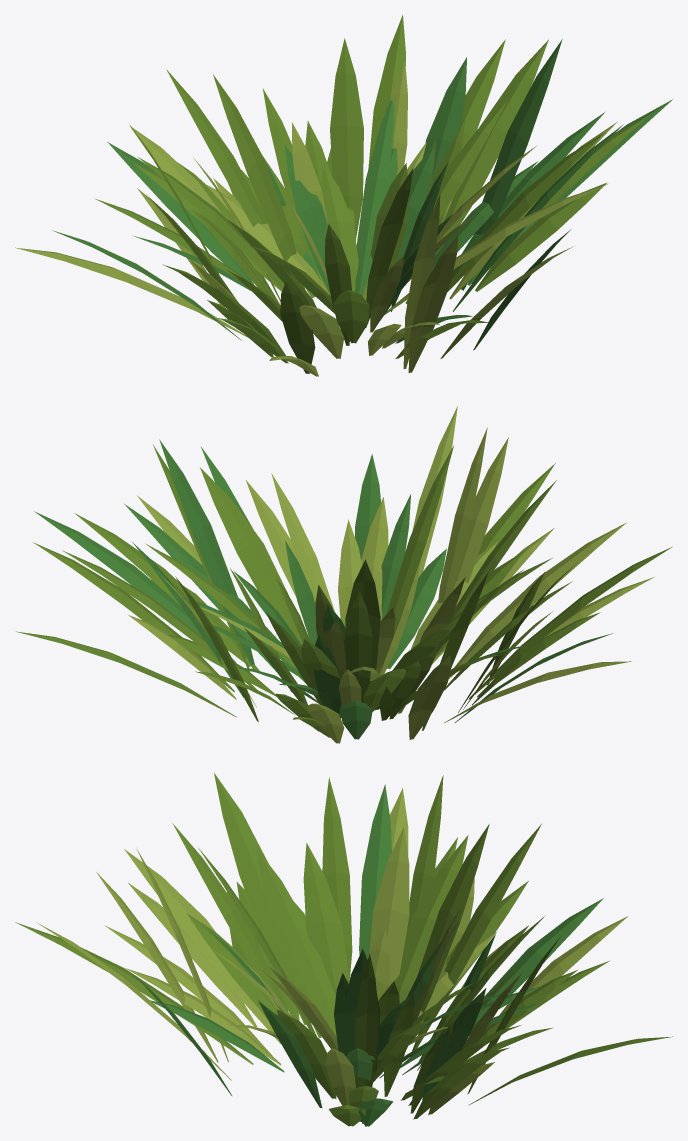
Rendered from jungle_grass_broad.glb.
3 views of the same model, one above another, from view 1: azimuth 30°, elevation 25°; view 2: azimuth 150°, elevation 25°; view 3: azimuth 270°, elevation 25° (orthographic). The views are drawn at different scales.
Parts seen in each view (by area): view 1: jungle_grass_broad; view 2: jungle_grass_broad; view 3: jungle_grass_broad.
Boxes of the visible parts, x1,y1,x2,y2 form: jungle_grass_broad: [15, 14, 672, 376]; jungle_grass_broad: [16, 406, 672, 743]; jungle_grass_broad: [15, 773, 672, 1126].
Size of the model in its own units: 2.07 by 0.6863 by 1.84.
